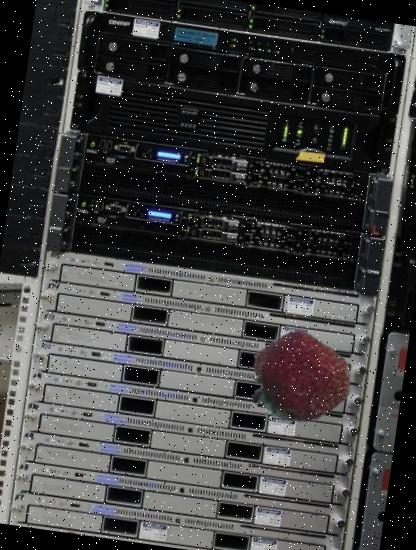Strawberry: (242, 322, 356, 436)
